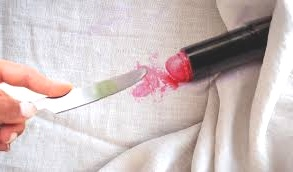lipstick: (129, 56, 173, 107)
